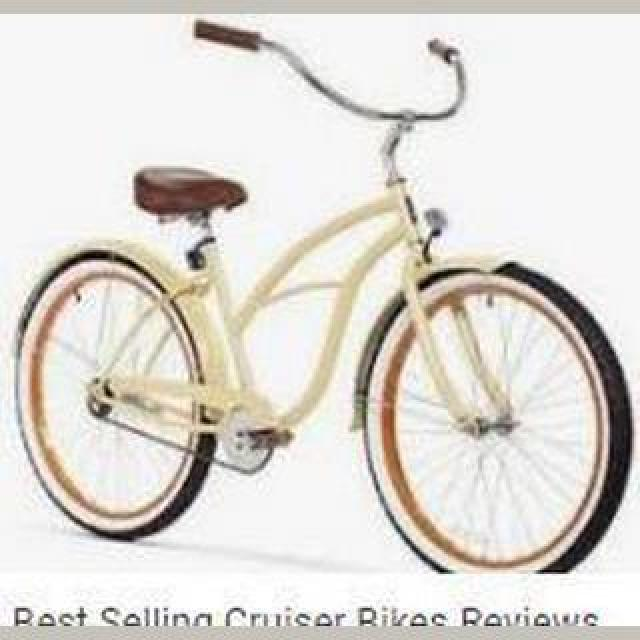Person: (6, 14, 640, 580)
